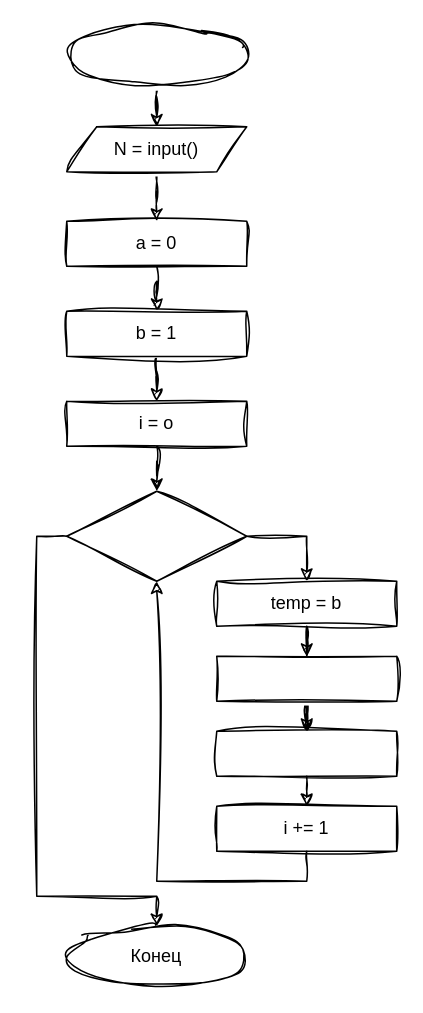
The diagram is 423 pixels wide and 1013 high, and some of its shapes have lost their labels. Each missing label, with the centre of its shape:
a = temp: pixel 306 753
b = a + b: pixel 306 678
i <= N: pixel 156 535
Начало: pixel 156 55
